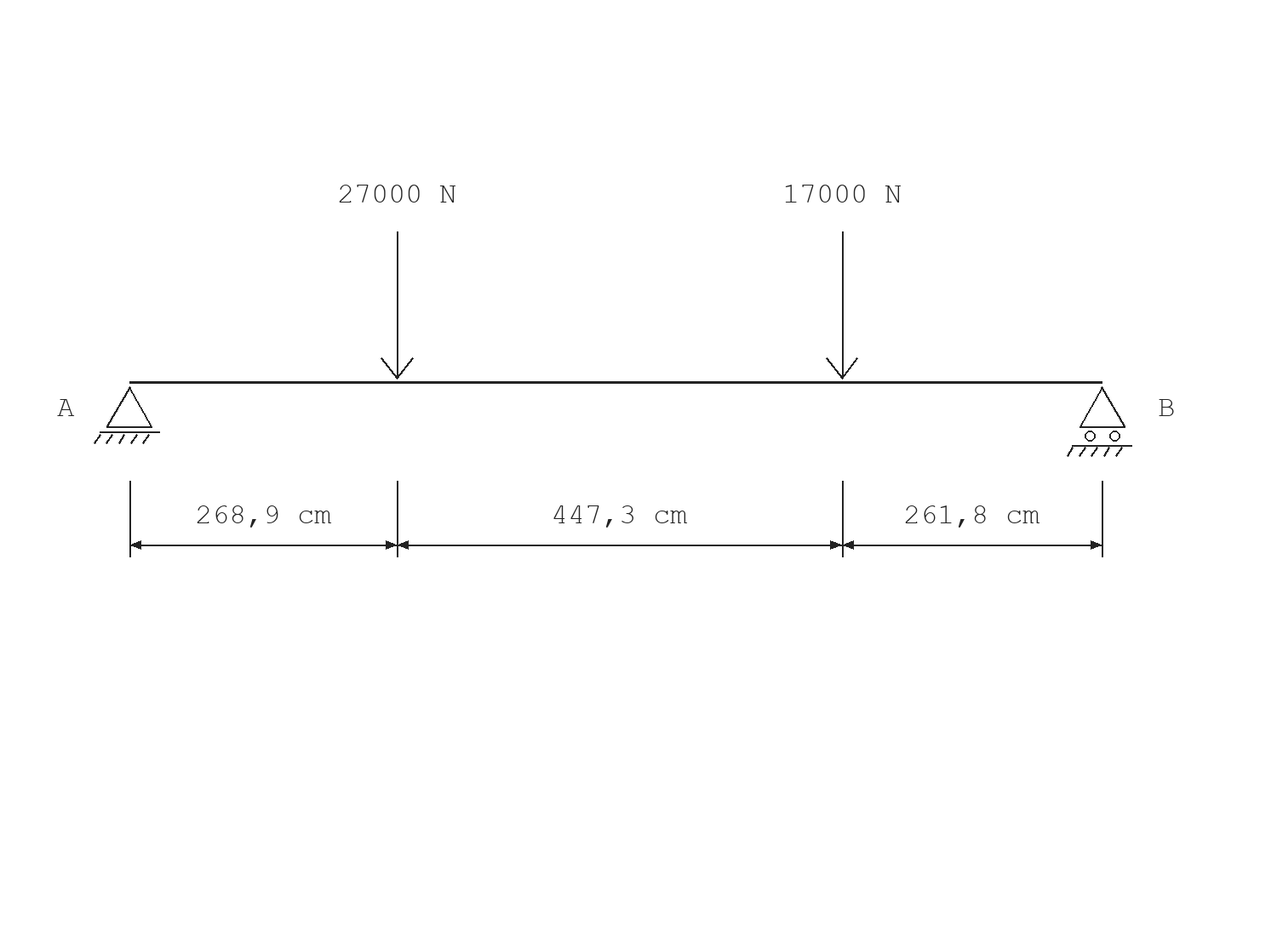pin_support: (94, 386, 160, 444)
point_load: (381, 231, 414, 380), (826, 231, 858, 380)
roller_support: (1067, 386, 1132, 457)
